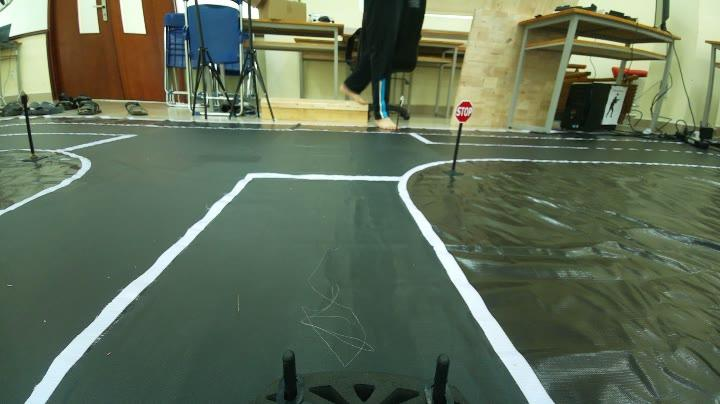stop: (449, 95, 478, 123)
